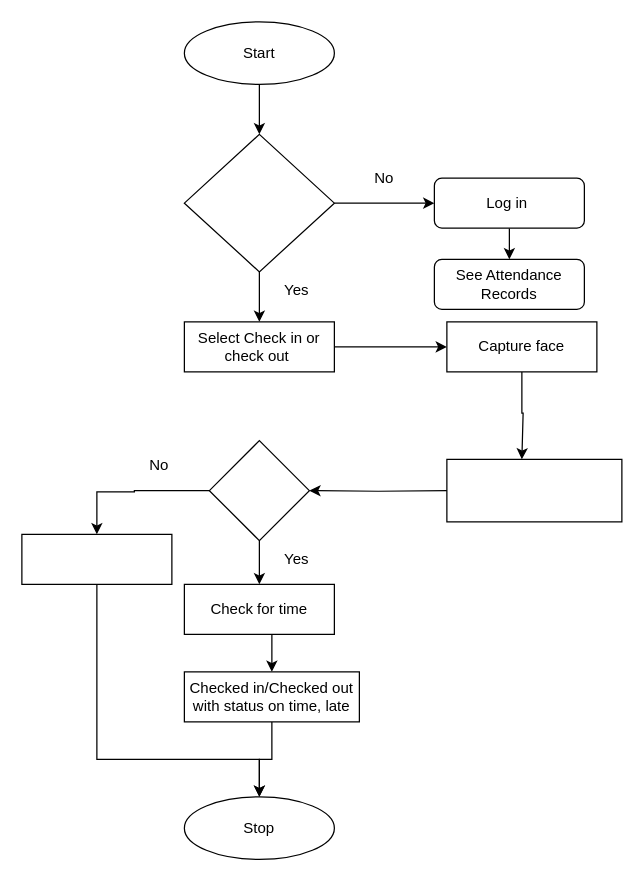
Image size: 644x881. Some labels were removed from this diagram. The centre of each missing label's shape, as x and y in pixels:
"Compare with photo initially stored for face matching" belongs at [534,490].
"Display Face Not Matched" belongs at [96,558].
"Do Attendace?" belongs at [258,202].
"Face Matched?" belongs at [258,490].
